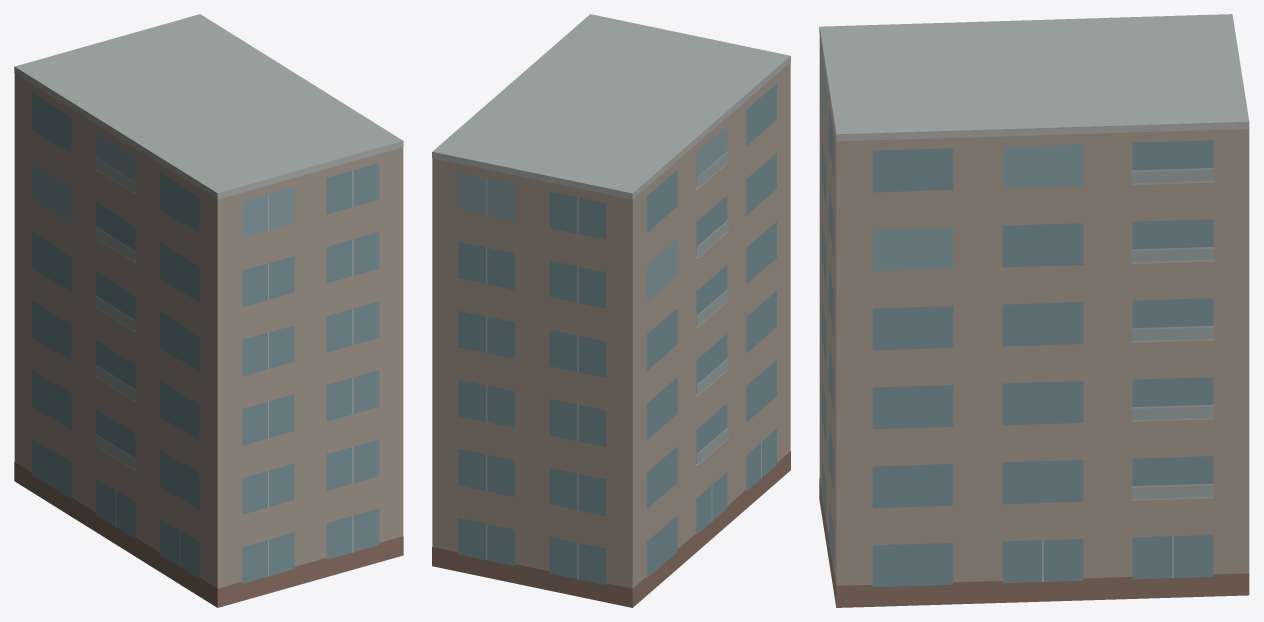
The model's file is survey-upis-32885774.glb.
3 views of the same model, side by side, from view 1: azimuth 30°, elevation 25°; view 2: azimuth 150°, elevation 25°; view 3: azimuth 270°, elevation 25° (orthographic). The views are drawn at different scales.
Visible parts, largest first — view 1: survey-upis-32885774.tmp; view 2: survey-upis-32885774.tmp; view 3: survey-upis-32885774.tmp.
Boxes of the visible parts, box(x1,y1,x2,y2) form: survey-upis-32885774.tmp: box(14, 14, 403, 607); survey-upis-32885774.tmp: box(432, 14, 790, 607); survey-upis-32885774.tmp: box(819, 14, 1249, 607).
Bounding box in the file's own units: 8.77 × 16.1 × 13.25.
